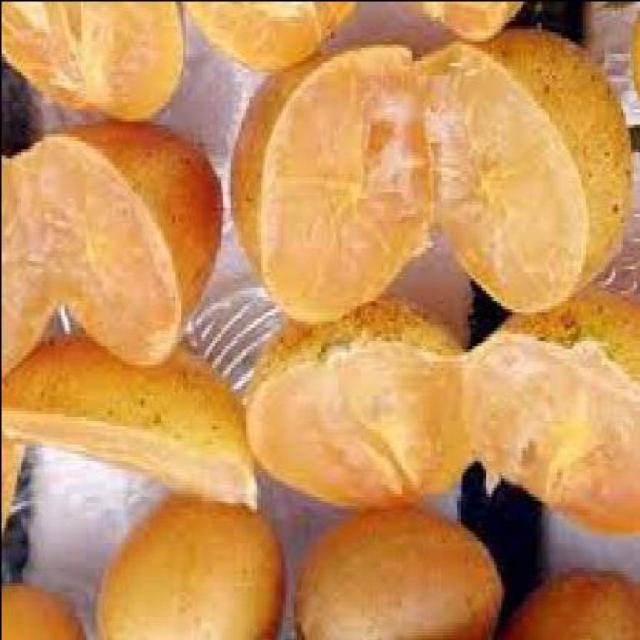BIODEGRADABLE: (416, 31, 631, 311), (232, 45, 430, 321), (2, 122, 221, 369), (248, 294, 470, 506), (4, 336, 255, 506), (465, 296, 640, 532), (298, 510, 501, 640), (100, 495, 280, 640), (4, 2, 182, 120), (188, 2, 356, 72), (499, 572, 640, 640), (3, 585, 84, 640), (423, 1, 522, 41), (2, 426, 23, 531), (631, 14, 639, 98)
